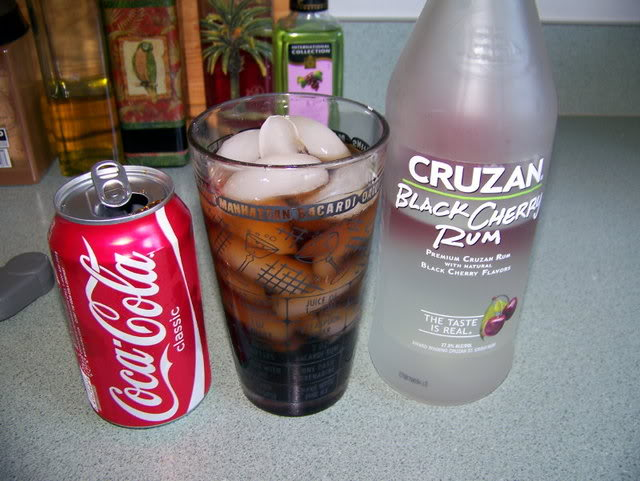coke: (55, 166, 215, 427)
